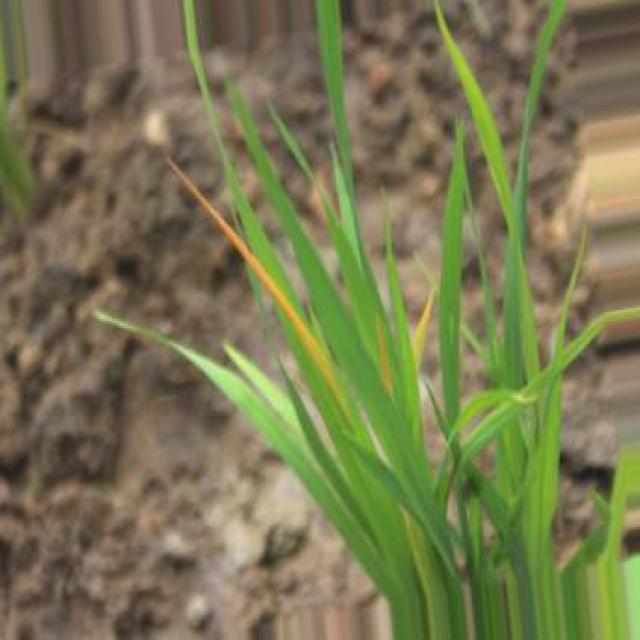Rice Tungro: (167, 157, 348, 416)
